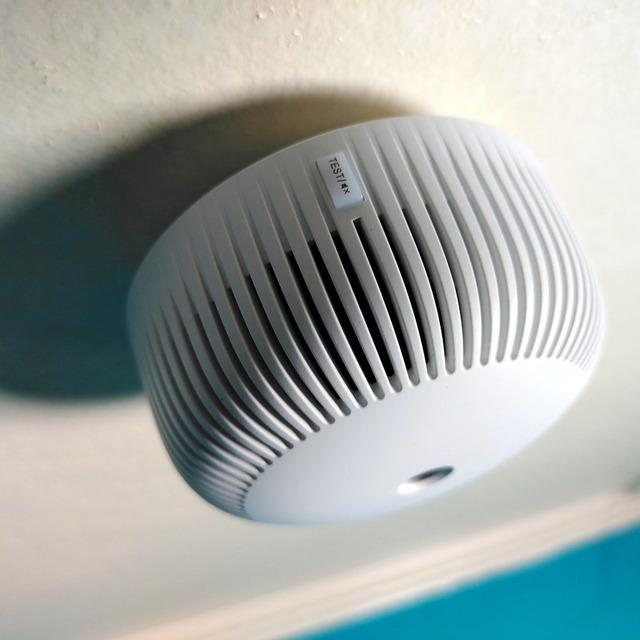Smoke-Detector: (118, 116, 606, 540)
